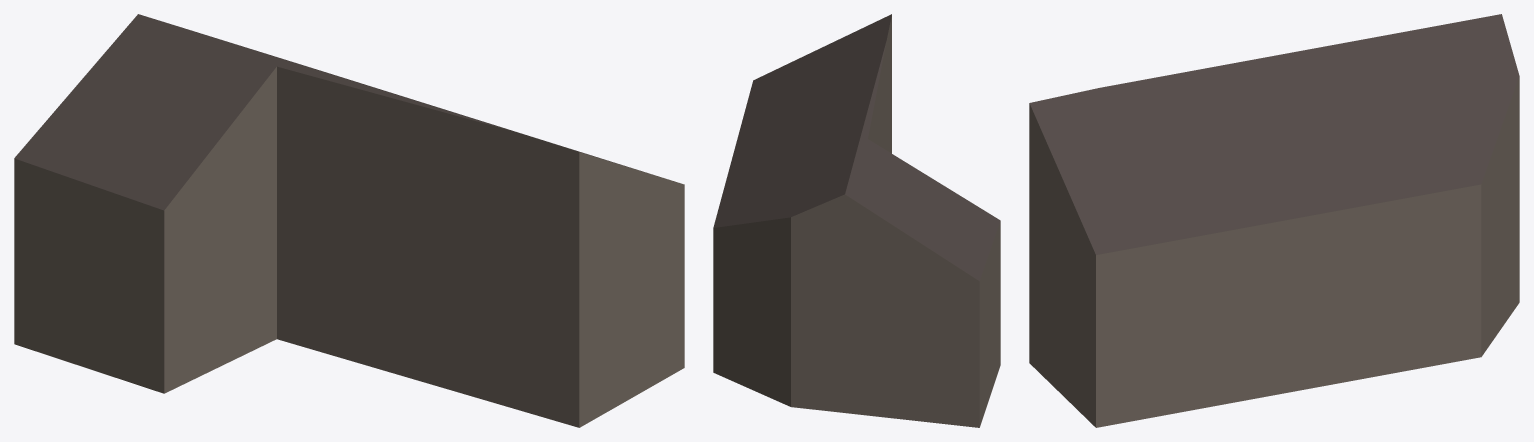
3 views of the same model, side by side, from view 1: azimuth 30°, elevation 25°; view 2: azimuth 150°, elevation 25°; view 3: azimuth 270°, elevation 25° (orthographic). The views are drawn at different scales.
Parts seen in each view (by area): view 1: HP-w783664805; view 2: HP-w783664805; view 3: HP-w783664805.
Part boxes in pixels (x1,y1,x2,y2): HP-w783664805: (14, 14, 684, 427); HP-w783664805: (713, 14, 1000, 427); HP-w783664805: (1029, 14, 1519, 427).
Bounding box in the file's own units: 16.41 × 9.08 × 15.42.
